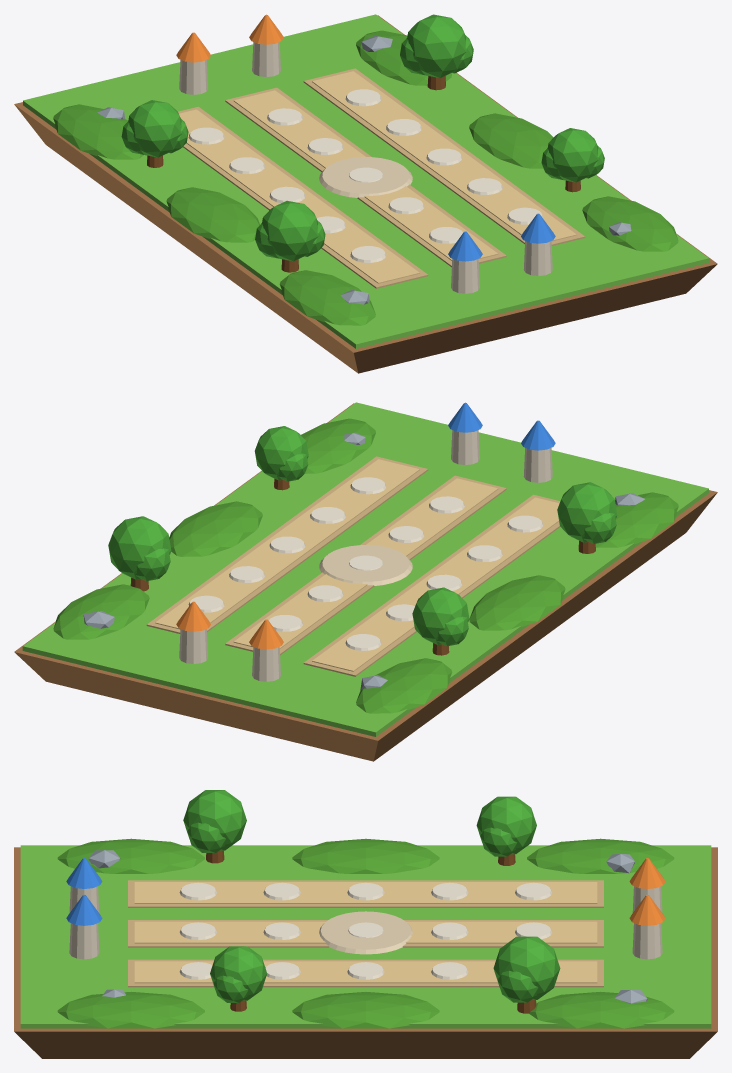
Rendered from field-meadow-v2.glb.
The picture shows the model from 3 angles, top to bottom: view 1: azimuth 30°, elevation 25°; view 2: azimuth 150°, elevation 25°; view 3: azimuth 270°, elevation 25°; orthographic projection. The views are drawn at different scales.
Visible parts, largest first — view 1: Meadow_Top, Island_Base, LaneDirt_2, LaneDirt_0, LaneDirt_1, GrassMound_-5.4_0.0, GrassMound_-5.4_-7.0, GrassMound_5.4_-7.0, GrassMound_5.4_0.0, LaneCurb_2, GrassMound_-5.4_7.0, Leaf_3_0 (+15 smaller); view 2: Meadow_Top, Island_Base, LaneDirt_2, LaneDirt_0, LaneDirt_1, GrassMound_-5.4_0.0, GrassMound_5.4_0.0, GrassMound_-5.4_7.0, GrassMound_5.4_7.0, LaneCurb_2, GrassMound_5.4_-7.0, Monster_Plaza (+19 smaller); view 3: Meadow_Top, Island_Base, LaneDirt_0, LaneDirt_1, LaneDirt_2, GrassMound_5.4_0.0, GrassMound_5.4_-7.0, GrassMound_-5.4_0.0, GrassMound_5.4_7.0, GrassMound_-5.4_-7.0, GrassMound_-5.4_7.0, LaneCurb_2 (+35 smaller).
Boxes of the visible parts, x1,y1,x2,y2 form: Meadow_Top: (23,14,709,348); Island_Base: (14,15,717,373); LaneDirt_2: (312,71,576,241); LaneDirt_0: (179,109,419,283); LaneDirt_1: (233,90,498,260); GrassMound_-5.4_0.0: (166,187,259,242); GrassMound_-5.4_-7.0: (279,270,375,325); GrassMound_5.4_-7.0: (582,196,678,251); GrassMound_5.4_0.0: (469,113,553,168); LaneCurb_2: (303,68,585,245); GrassMound_-5.4_7.0: (53,104,143,159); Leaf_3_0: (407,14,466,78); Meadow_Top: (22,402,708,736); Island_Base: (14,403,717,761); LaneDirt_2: (155,459,419,629); LaneDirt_0: (312,497,559,671); LaneDirt_1: (233,478,498,648); GrassMound_-5.4_0.0: (469,575,565,630); GrassMound_5.4_0.0: (169,501,262,556); GrassMound_-5.4_7.0: (356,658,452,713); GrassMound_5.4_7.0: (53,584,149,639); LaneCurb_2: (146,456,428,633); GrassMound_5.4_-7.0: (301,418,375,473); Monster_Plaza: (319,545,412,585); Meadow_Top: (20,845,711,1028); Island_Base: (14,847,717,1058); LaneDirt_0: (134,882,597,903); LaneDirt_1: (134,921,597,943); LaneDirt_2: (134,961,597,983); GrassMound_5.4_0.0: (292,992,439,1028); GrassMound_5.4_-7.0: (57,991,204,1028); GrassMound_-5.4_0.0: (292,838,439,873); GrassMound_5.4_7.0: (529,991,674,1028); GrassMound_-5.4_-7.0: (57,838,204,873); GrassMound_-5.4_7.0: (527,838,674,873); LaneCurb_2: (128,959,603,987).
Size of the model in its own units: 13.08 by 3.72 by 21.
